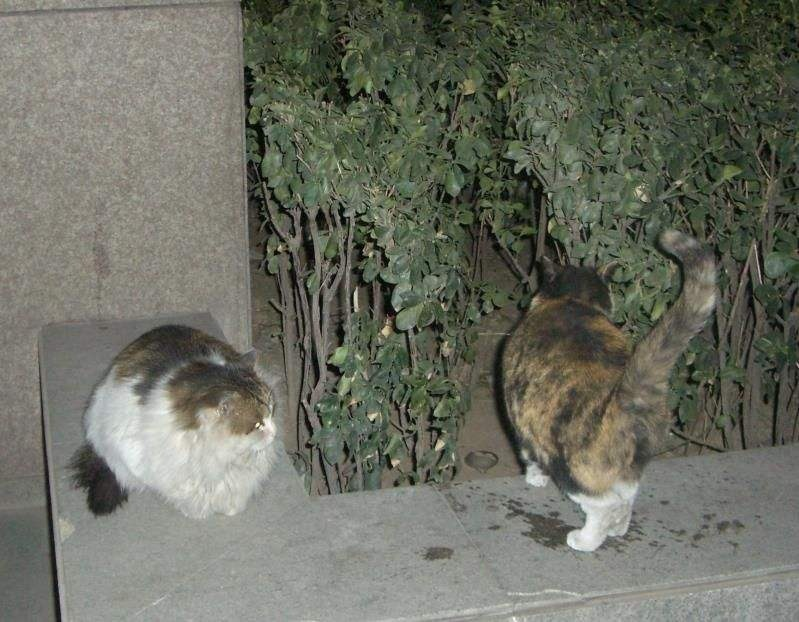cat: (502, 229, 715, 553), (69, 324, 284, 522)
